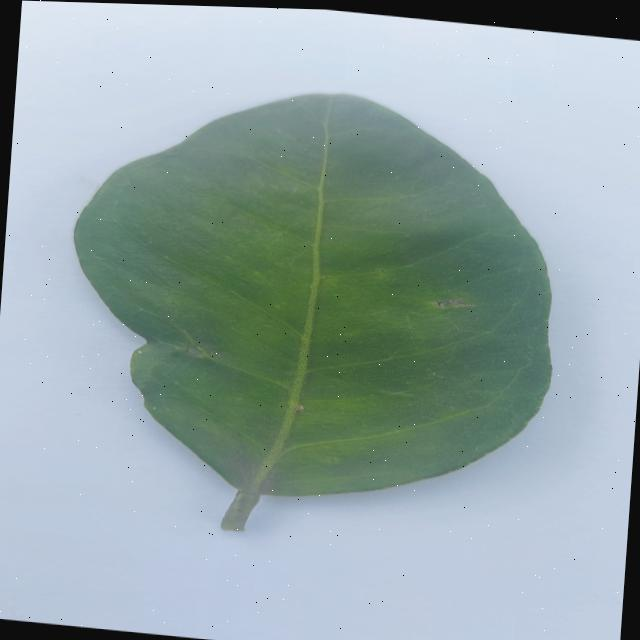greening: (75, 94, 550, 530)
